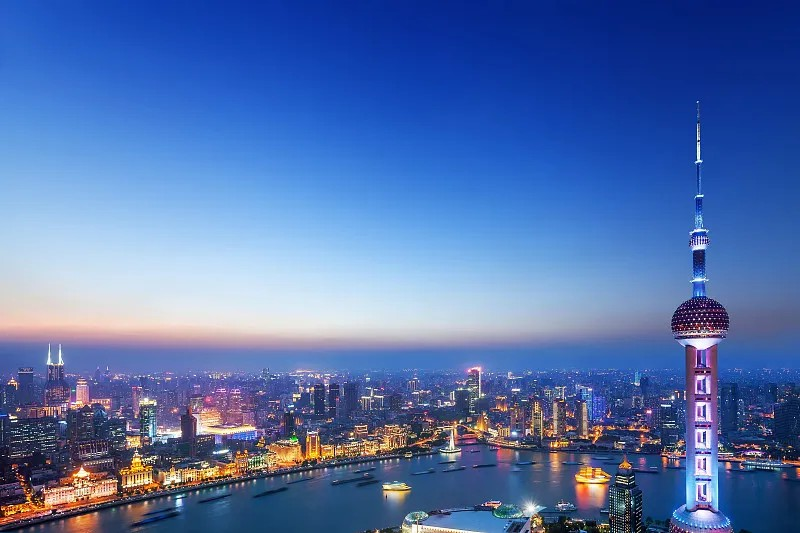Oriental: (670, 102, 732, 533)
